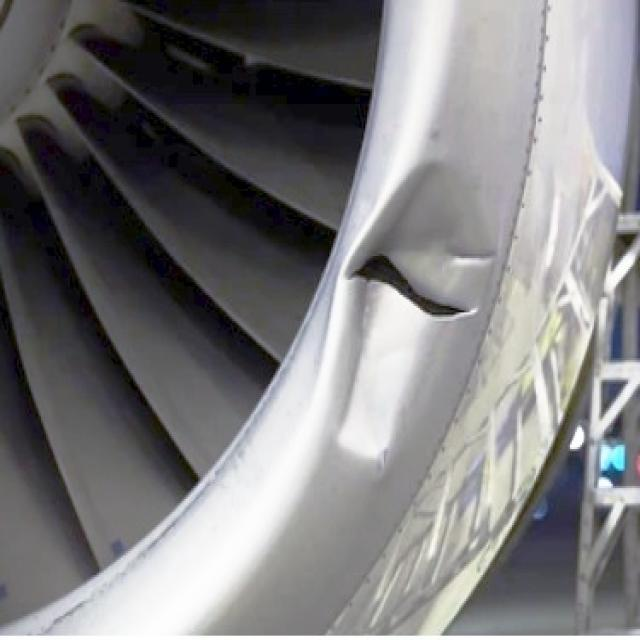crack: (329, 233, 481, 324)
